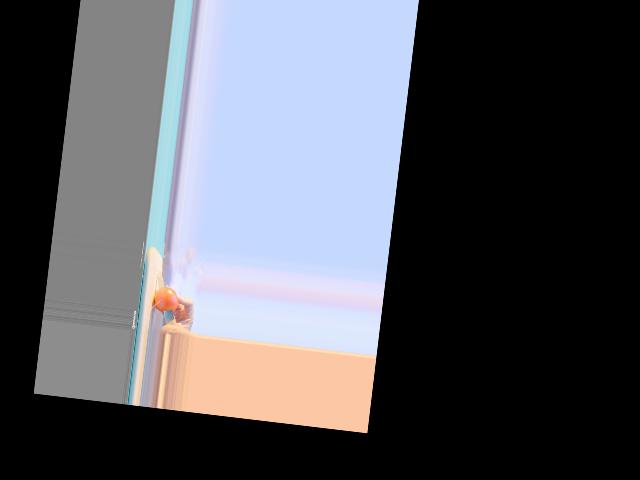tomato: (151, 285, 179, 313)
